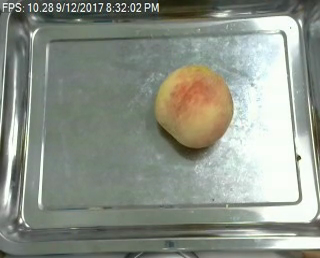Peach: (154, 64, 234, 148)
